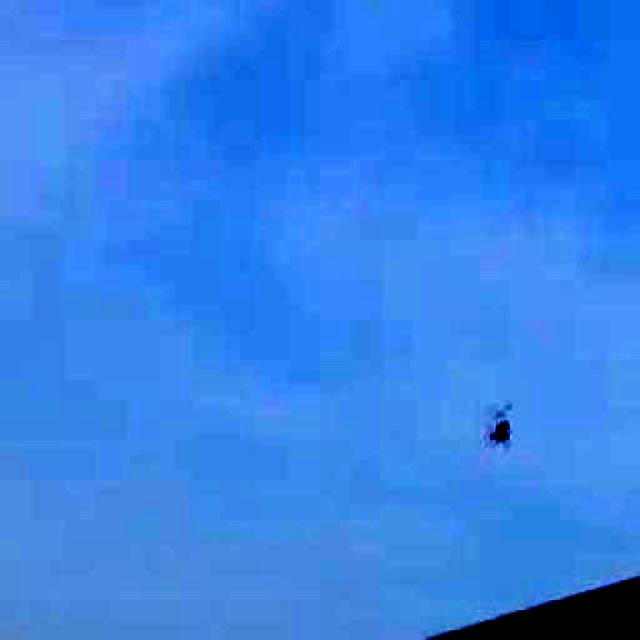drone: (472, 385, 534, 469)
